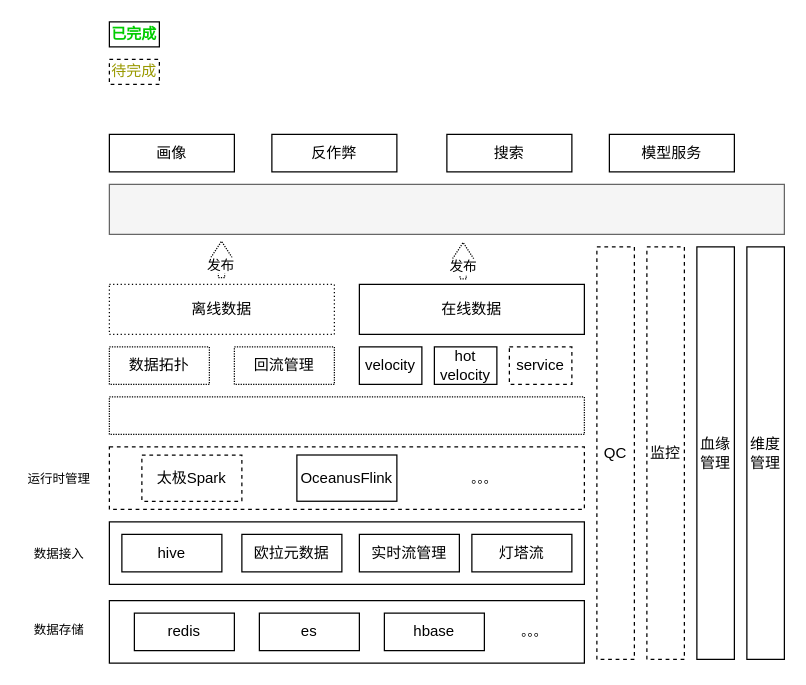
The diagram is 806 pixels wide and 685 high, and some of its shapes have lost their labels. Here are the shapes that lost their labels. From the top down, the centre of each, then its label:
point (446, 208): Meta
point (346, 415): 动态pipeline
